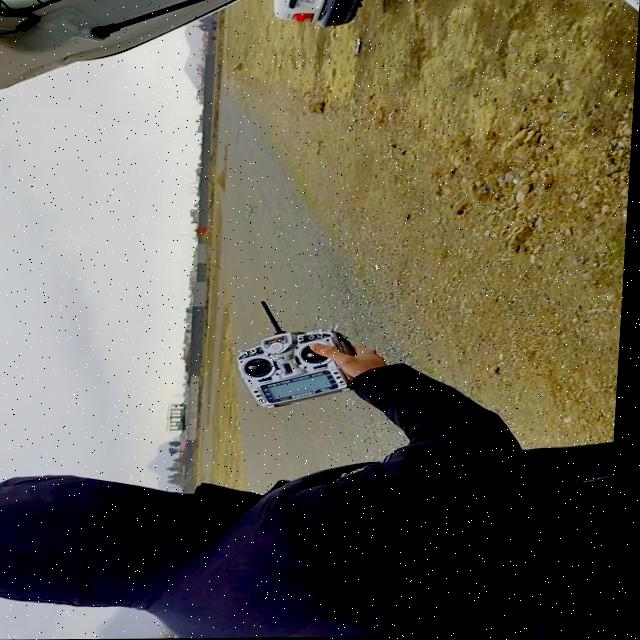drone: (242, 201, 266, 220)
